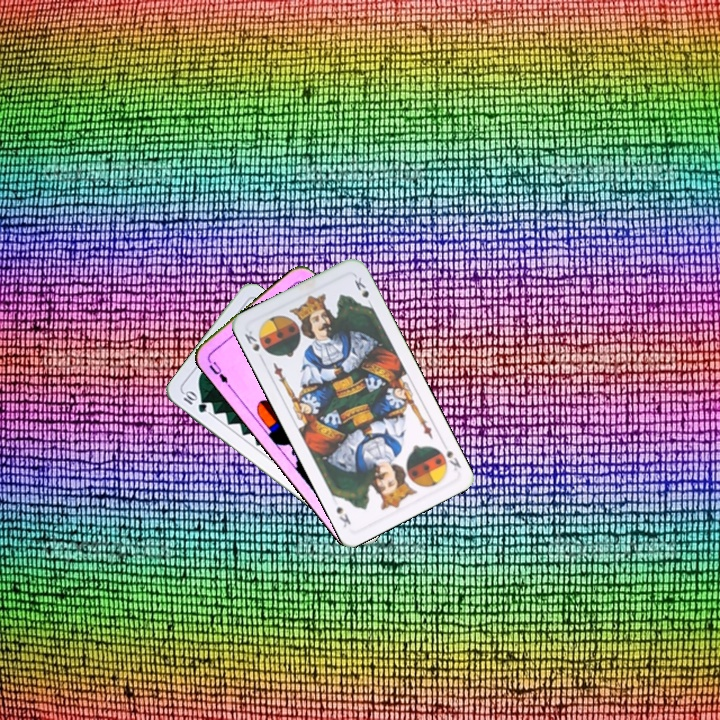EU: (204, 355, 230, 386)
G10: (179, 387, 209, 415)
SK: (438, 437, 464, 473), (240, 326, 262, 354)
